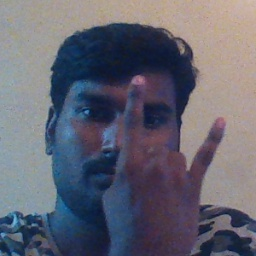V: (97, 73, 229, 256)
